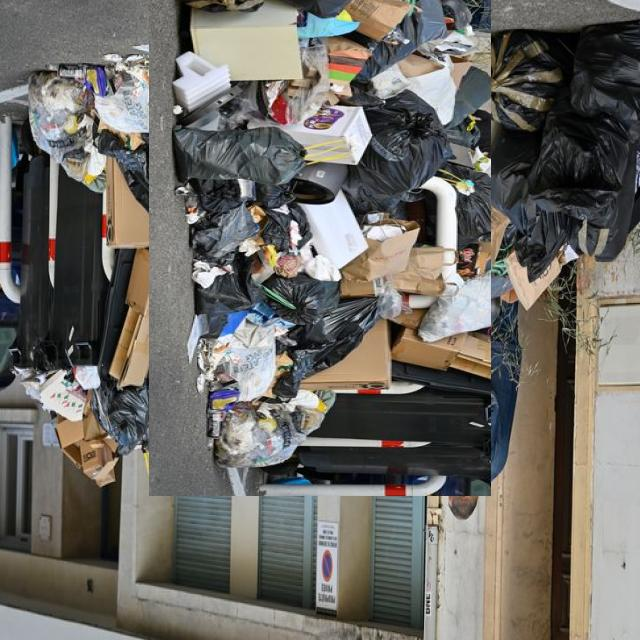garbage: (75, 0, 566, 423)
